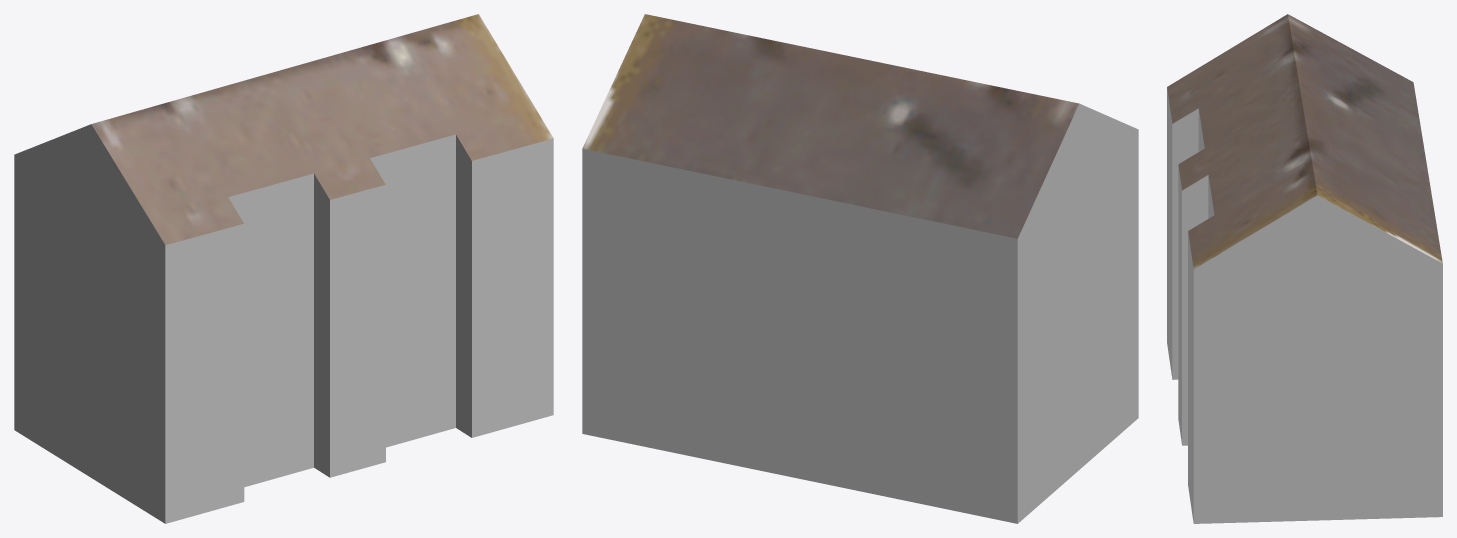
Rendered from DEBW_0010007TxiC.gltf.
3 renders of one model, left to right at view 1: azimuth 30°, elevation 25°; view 2: azimuth 150°, elevation 25°; view 3: azimuth 270°, elevation 25°, orthographic. The views are drawn at different scales.
Parts seen in each view (by area): view 1: Z_UP; view 2: Z_UP; view 3: Z_UP.
Part boxes in pixels (left/top/right/bottom): Z_UP: left=14, top=14, right=553, bottom=523; Z_UP: left=582, top=14, right=1138, bottom=523; Z_UP: left=1167, top=14, right=1442, bottom=523.
Bounding box in the file's own units: 19.29 × 15.53 × 11.93.
2 materials, 1 textured.
